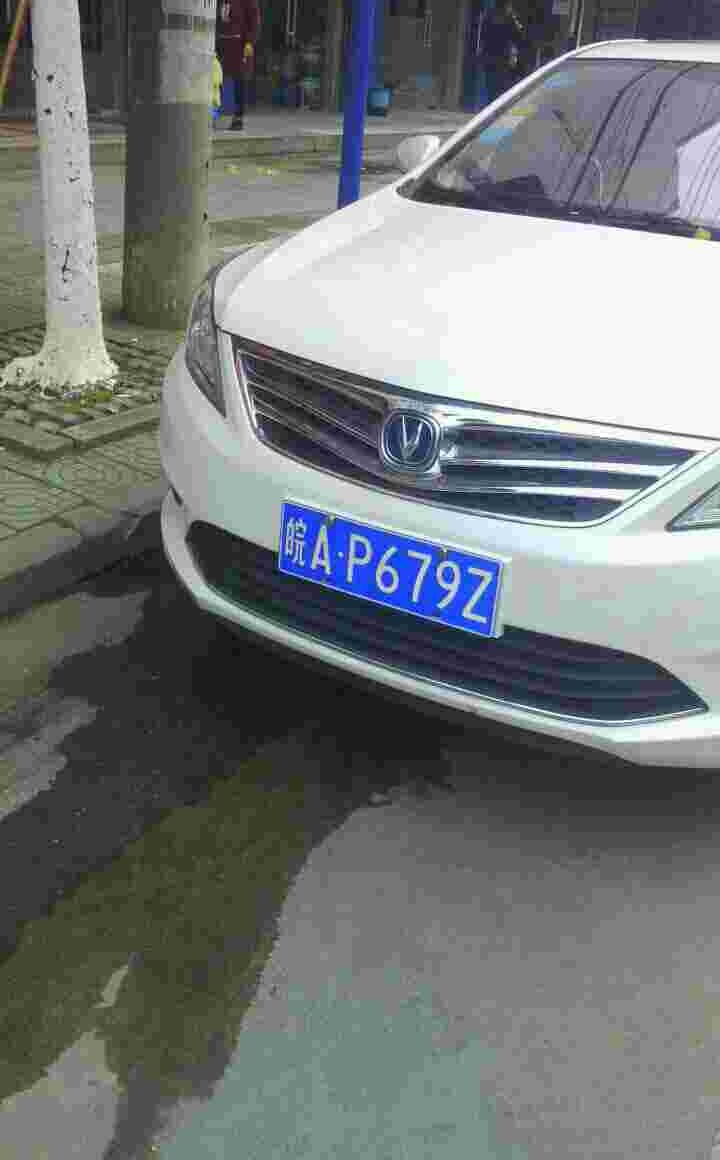license_plate: (275, 500, 502, 639)
